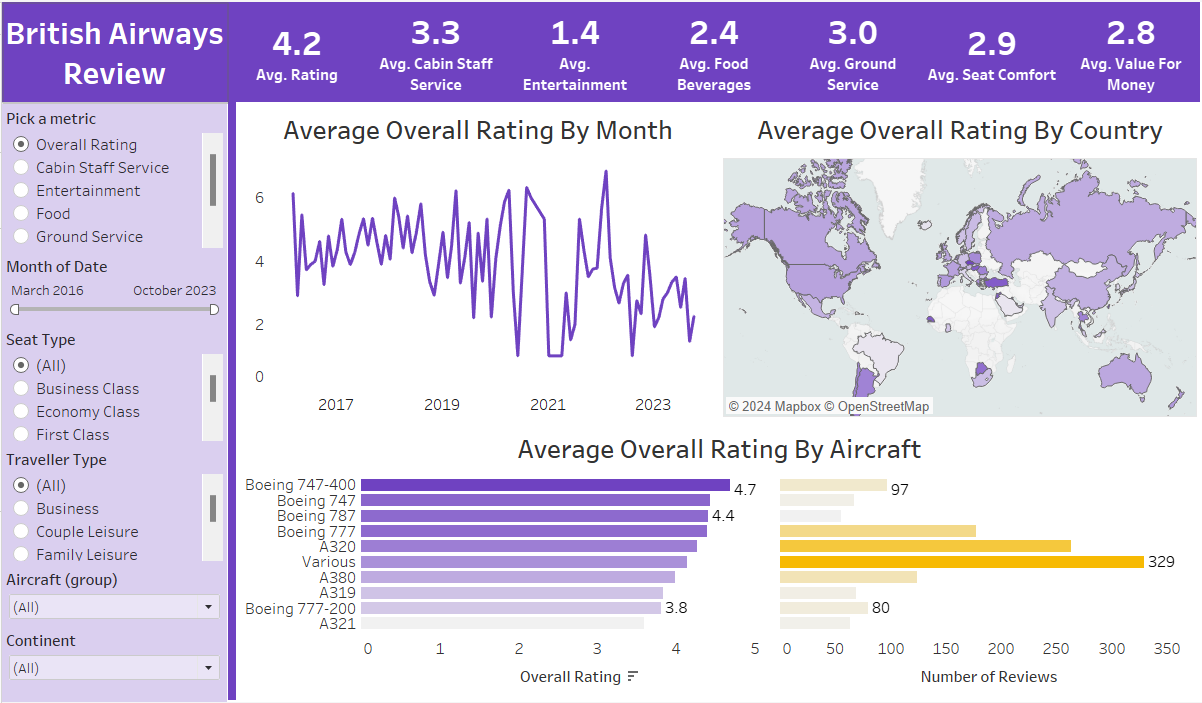

Layout of this report page (visuals, bound fields, positions):
{"tool":"tableau","page":{"name":"Dashboard 1","canvas":[1200,700],"ordinal":0},"visuals":[{"type":"text","box":[0,0,225,100]},{"type":"worksheet","title":"Summary","mark":"Automatic","box":[225,0,973,100]},{"type":"blank","box":[226,100,8,598]},{"type":"parameter","param":"[Parameters].[Parameter 1]","box":[0,102,225,148]},{"type":"worksheet","title":"Month","mark":"Automatic","rows":["Calculation_1213157192004177920"],"cols":["date"],"box":[235,102,482,317]},{"type":"worksheet","title":"Map","mark":"Multipolygon","box":[717,102,482,317]},{"type":"filter","title":"Map","param":"[federated.00fxezy1kae7h61a49g961d8gd50].[tmn:date:qk]","box":[0,250,225,73]},{"type":"filter","title":"Map","param":"[federated.00fxezy1kae7h61a49g961d8gd50].[none:seat_type:nk]","box":[0,323,225,120]},{"type":"worksheet","title":"Aircraft","mark":"Automatic","cols":["Calculation_1213157192004177920","ba_reviews.csv_B4369CD2B98B4565819D38FDC119DE84"],"box":[235,421,965,275]},{"type":"filter","title":"Map","param":"[federated.00fxezy1kae7h61a49g961d8gd50].[none:traveller_type:nk]","box":[0,443,225,120]},{"type":"filter","title":"Map","param":"[federated.00fxezy1kae7h61a49g961d8gd50].[Aircraft (group)]","box":[0,563,225,61]},{"type":"filter","title":"Map","param":"[federated.00fxezy1kae7h61a49g961d8gd50].[none:Continent:nk]","box":[0,624,225,61]}]}

Visuals, with their boxes in screenshot pixels (x1, y1, x2, y2), scaled from the page's 1200x700 canvas onto the 1202x703 screenshot:
text: {"x1": 0, "y1": 0, "x2": 225, "y2": 100}
"Summary" worksheet: {"x1": 225, "y1": 0, "x2": 1200, "y2": 100}
blank: {"x1": 226, "y1": 100, "x2": 234, "y2": 701}
parameter: {"x1": 0, "y1": 102, "x2": 225, "y2": 251}
"Month" worksheet: {"x1": 235, "y1": 102, "x2": 718, "y2": 421}
"Map" worksheet (Multipolygon marks): {"x1": 718, "y1": 102, "x2": 1201, "y2": 421}
"Map" filter: {"x1": 0, "y1": 251, "x2": 225, "y2": 324}
"Map" filter: {"x1": 0, "y1": 324, "x2": 225, "y2": 445}
"Aircraft" worksheet: {"x1": 235, "y1": 423, "x2": 1201, "y2": 699}
"Map" filter: {"x1": 0, "y1": 445, "x2": 225, "y2": 565}
"Map" filter: {"x1": 0, "y1": 565, "x2": 225, "y2": 627}
"Map" filter: {"x1": 0, "y1": 627, "x2": 225, "y2": 688}
